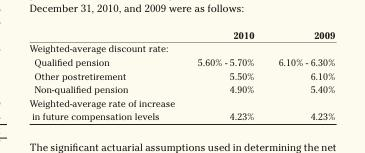table: (28, 28, 334, 121)
table column: (28, 28, 185, 121), (185, 28, 265, 121), (265, 28, 334, 121)
table column header: (28, 28, 334, 41)
table projected row header: (28, 41, 334, 54)
table row: (28, 95, 334, 121), (28, 54, 334, 68), (28, 68, 334, 82), (28, 28, 334, 41), (28, 41, 334, 54), (28, 82, 334, 95)
